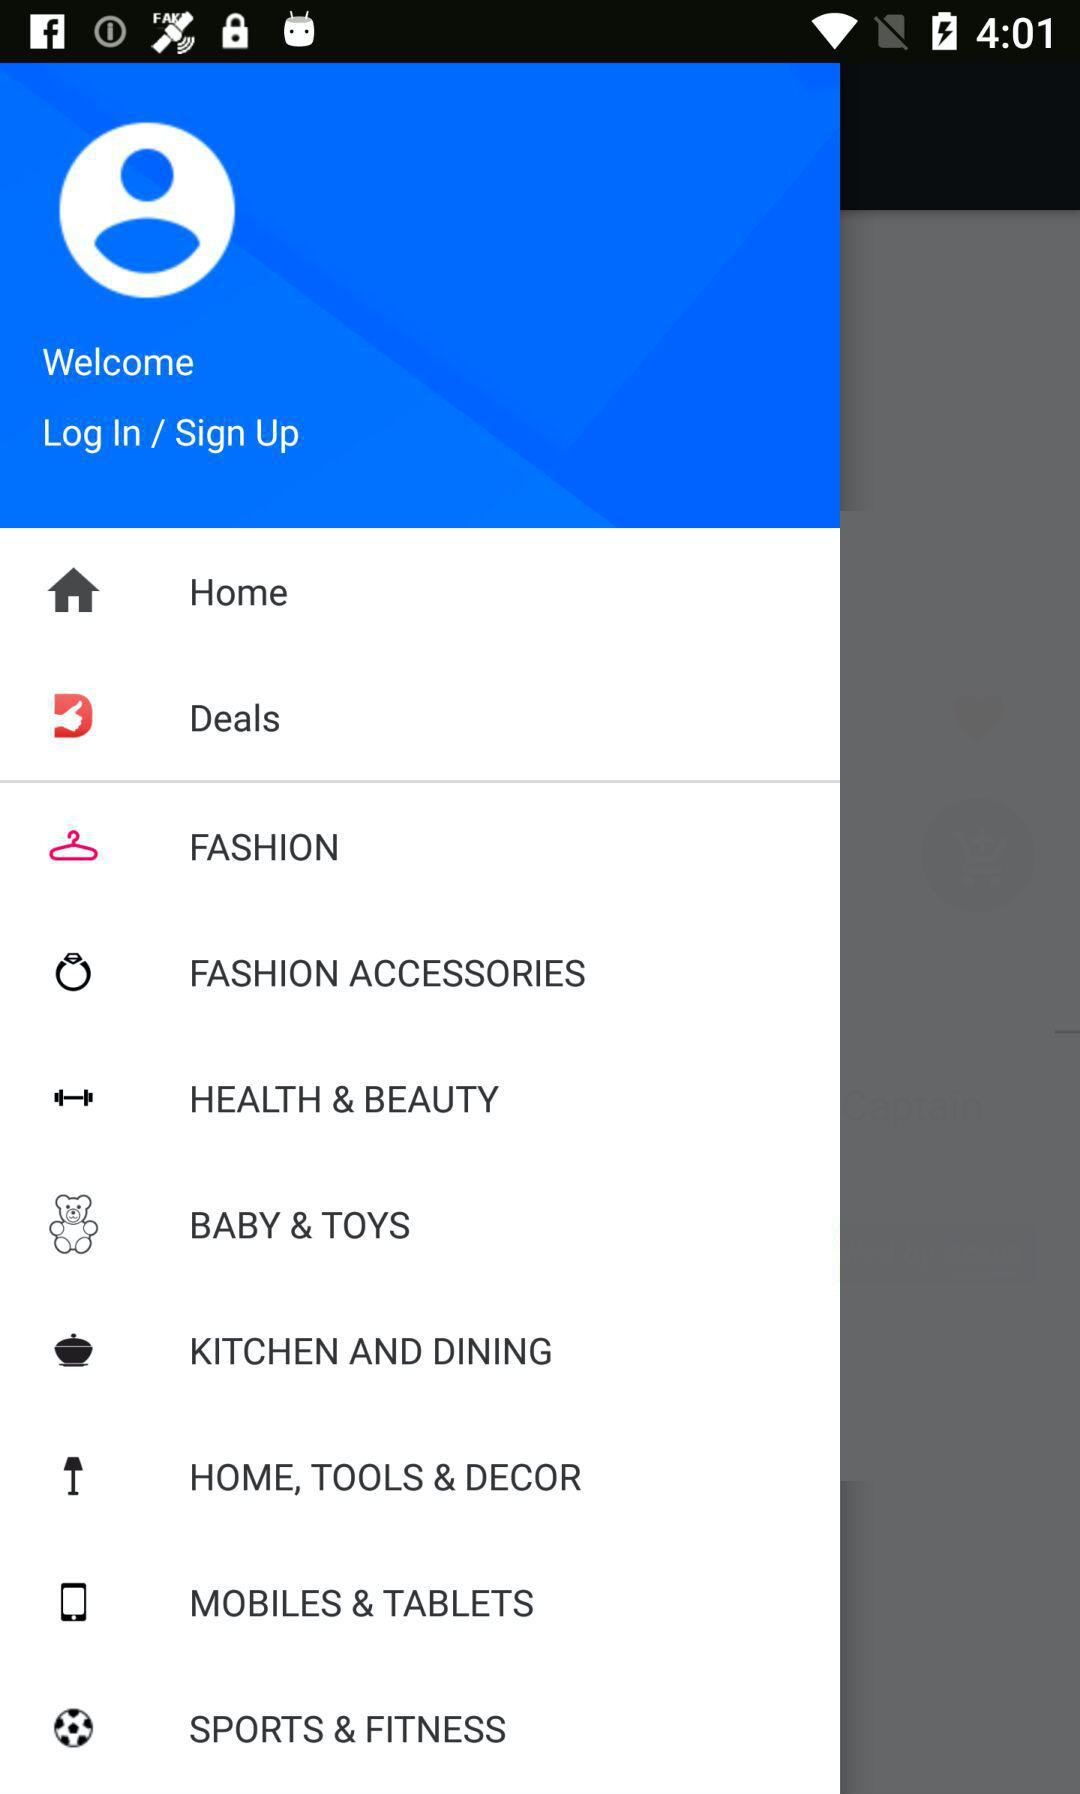Drawer: (1, 64, 839, 1794)
Icon: (59, 120, 237, 301), (47, 566, 102, 613)
Image: (49, 1193, 100, 1255), (54, 693, 95, 739), (54, 1707, 96, 1749), (49, 829, 100, 862), (55, 952, 94, 993), (54, 1331, 96, 1369), (61, 1583, 88, 1624), (63, 1454, 86, 1497), (54, 1088, 96, 1108)
Text: (191, 1462, 582, 1495), (191, 959, 585, 989), (191, 1337, 553, 1367), (191, 1588, 536, 1618), (190, 1713, 507, 1745), (44, 416, 300, 456), (191, 1084, 501, 1114), (192, 1210, 411, 1240), (41, 346, 196, 379), (191, 833, 340, 862), (191, 578, 290, 607), (191, 704, 282, 734)
UpperTaskBar: (1, 1, 1080, 64)
